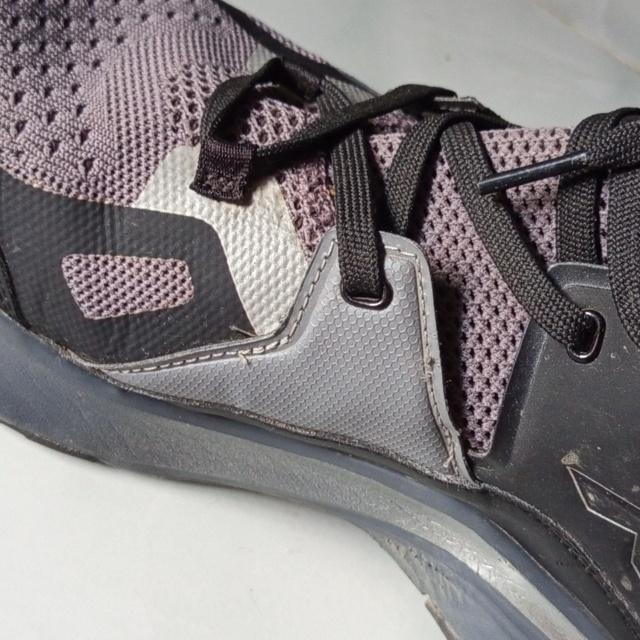broken: (423, 350, 435, 388)
